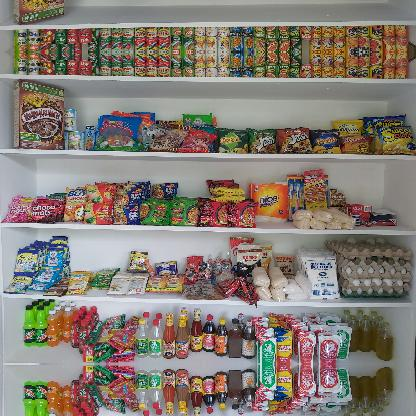Koko-Krunch: (14, 79, 64, 149), (13, 0, 65, 26)
